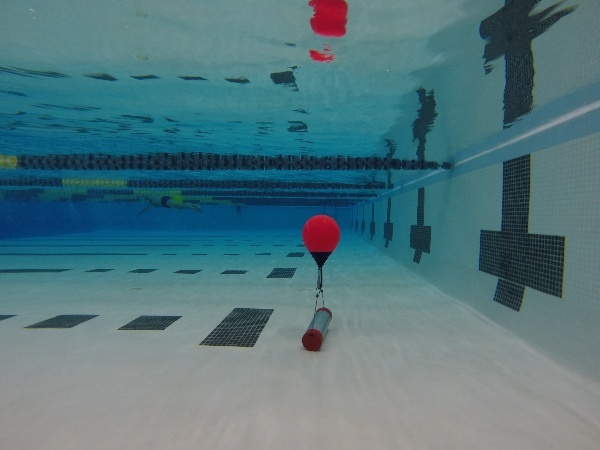buoy_red: (300, 213, 340, 269)
